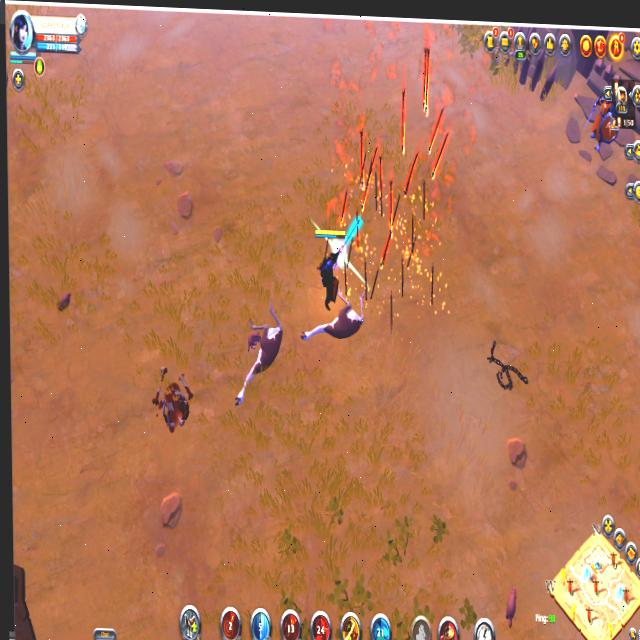mob: (230, 299, 288, 415), (298, 290, 373, 345)
red: (308, 216, 353, 310)
